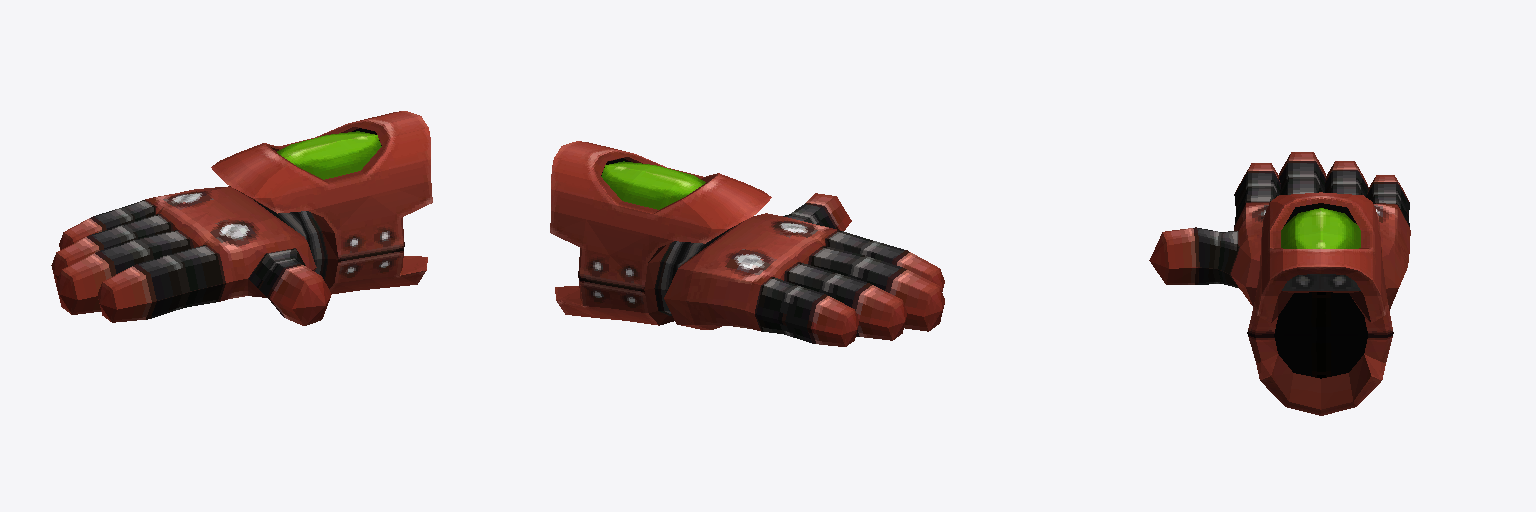
3 views of the same model, side by side, from view 1: azimuth 30°, elevation 25°; view 2: azimuth 150°, elevation 25°; view 3: azimuth 270°, elevation 25° (orthographic).
Visible parts, largest first — view 1: Mesh0; view 2: Mesh0; view 3: Mesh0.
Boxes of the visible parts, <box> form: Mesh0: <box>51,111,432,325</box>; Mesh0: <box>550,141,944,346</box>; Mesh0: <box>1149,152,1410,415</box>.
Size of the model in its own units: 21.26 by 8.75 by 12.96.
Materials: 1 (1 with a texture image).